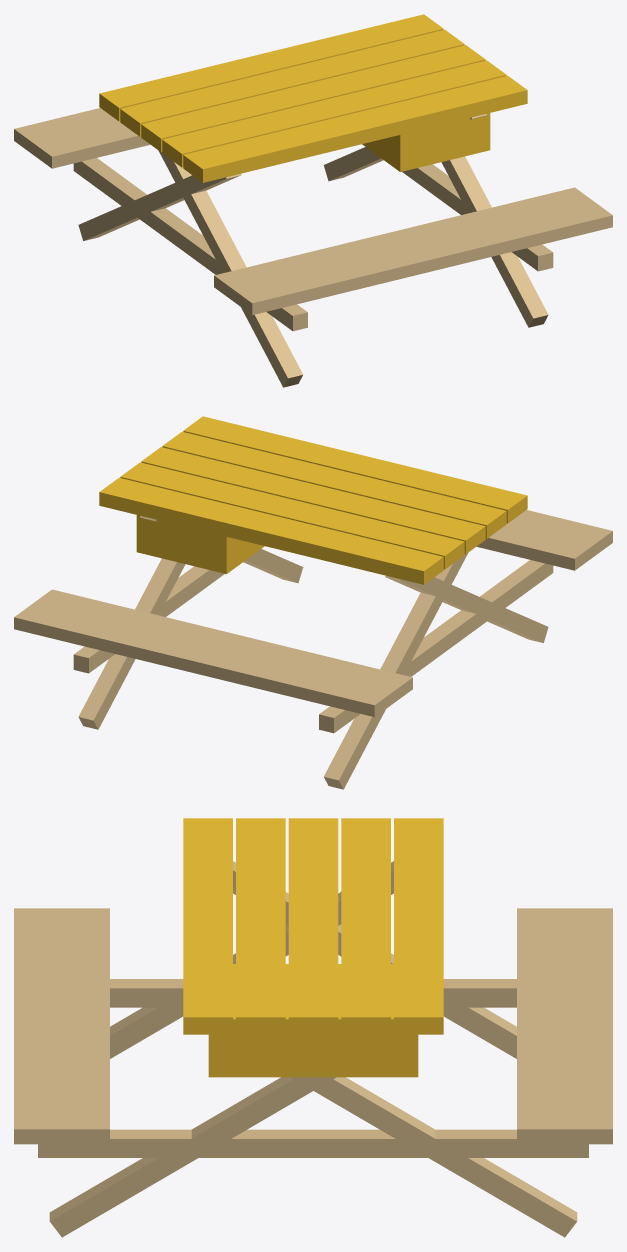
The picture shows the model from 3 angles, top to bottom: view 1: azimuth 30°, elevation 25°; view 2: azimuth 150°, elevation 25°; view 3: azimuth 270°, elevation 25°; orthographic projection. The views are drawn at different scales.
Parts seen in each view (by area): view 1: SW-Y312; view 2: SW-Y312; view 3: SW-Y312.
Part boxes in pixels (x1,y1,x2,y2): SW-Y312: (14,14,612,387); SW-Y312: (14,416,612,789); SW-Y312: (14,818,612,1237).
Size of the model in its own units: 1.07 by 0.541 by 1.22.
